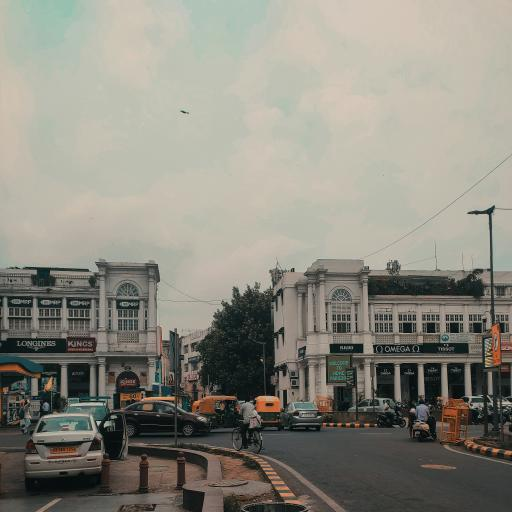auto: (197, 395, 239, 428), (256, 395, 282, 430), (141, 396, 175, 404), (191, 401, 200, 413), (178, 396, 186, 406)
bike: (376, 403, 406, 428), (412, 415, 437, 442)
car: (23, 412, 128, 490), (122, 400, 175, 436), (281, 402, 322, 431), (177, 407, 212, 437), (66, 401, 110, 424), (358, 397, 387, 413), (390, 399, 395, 411), (348, 406, 356, 412)
cycle: (232, 422, 264, 453), (251, 410, 259, 423)
person: (21, 399, 31, 434), (407, 401, 416, 439), (240, 402, 254, 424), (416, 400, 430, 421), (383, 399, 391, 414)
